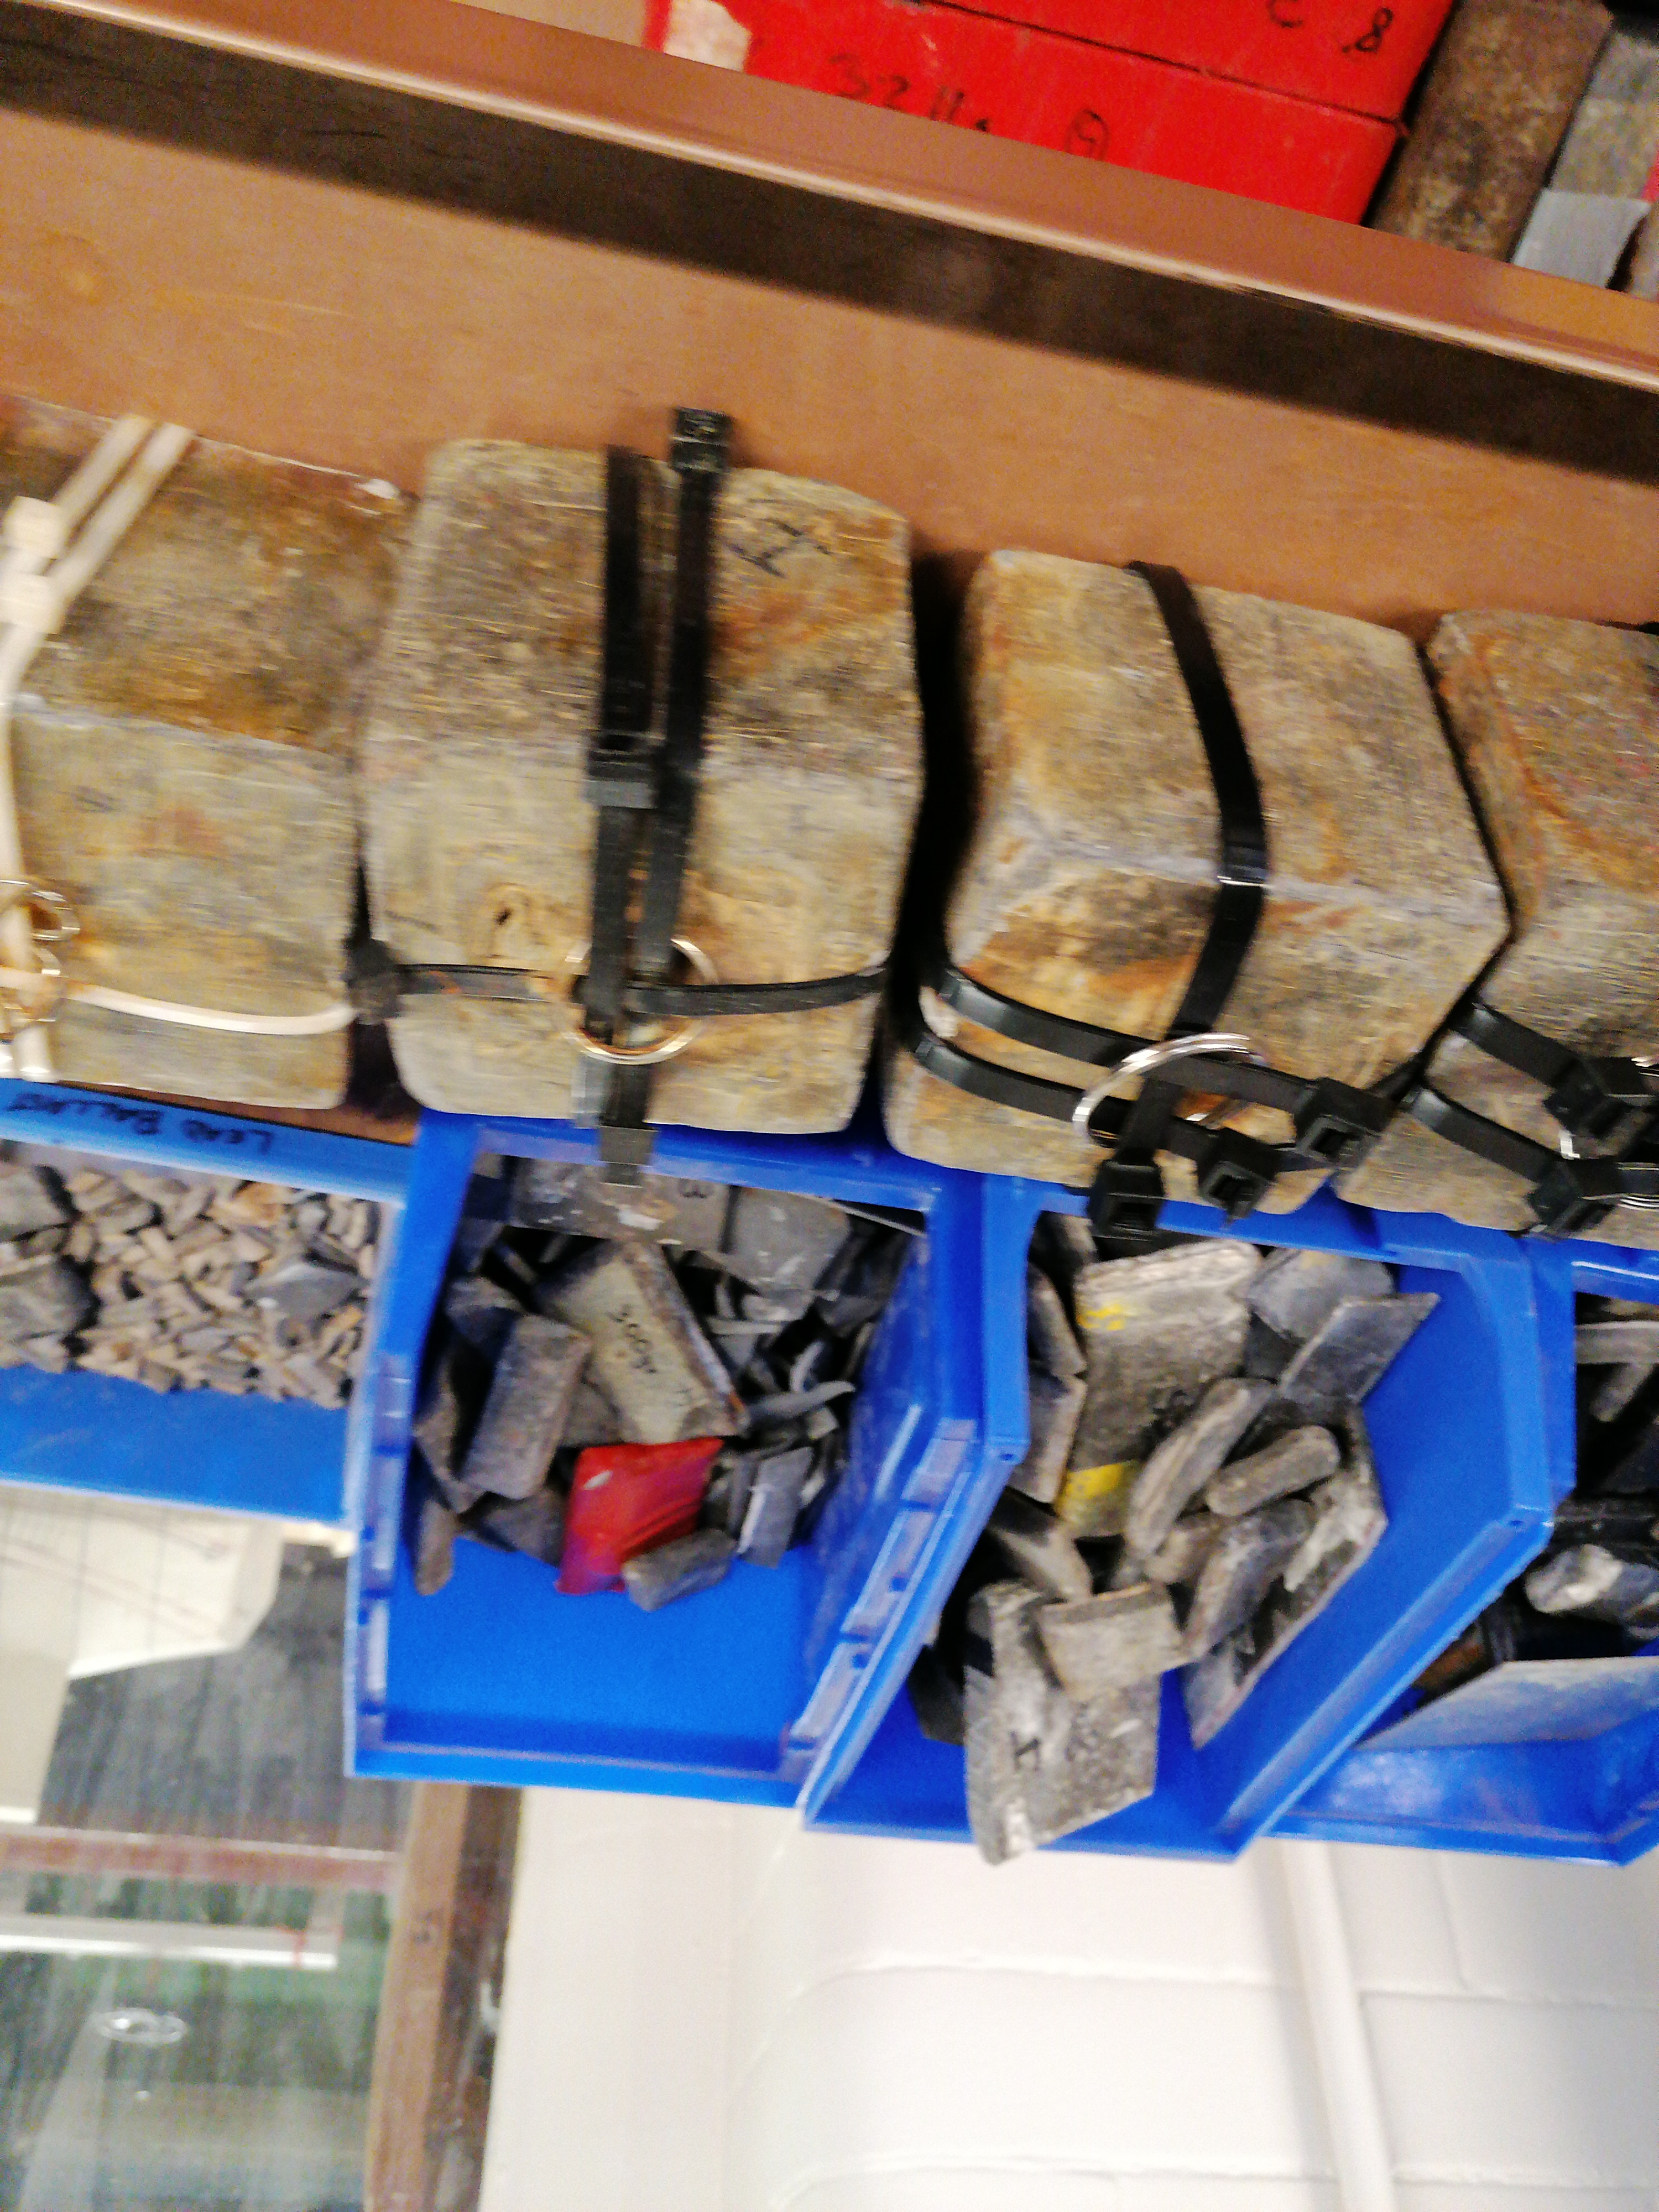lead_block: (871, 549, 1507, 1230), (357, 401, 927, 1123), (0, 390, 410, 1106), (1342, 597, 1659, 1285)
